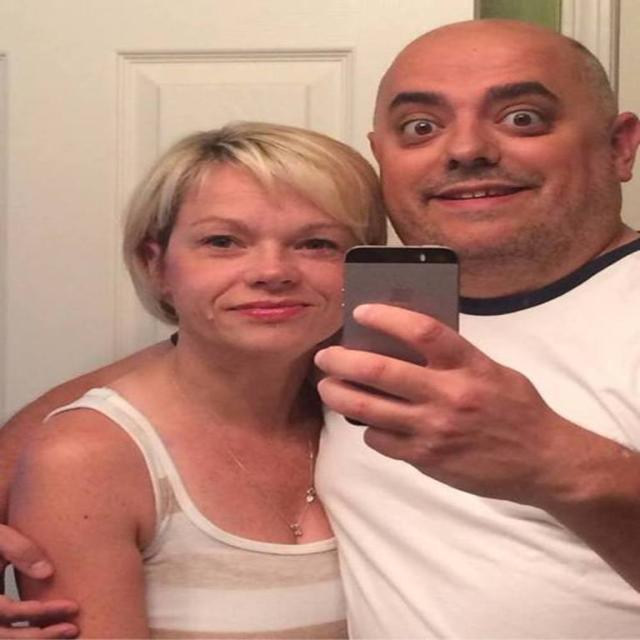Mobile-phone: (336, 246, 459, 428)
